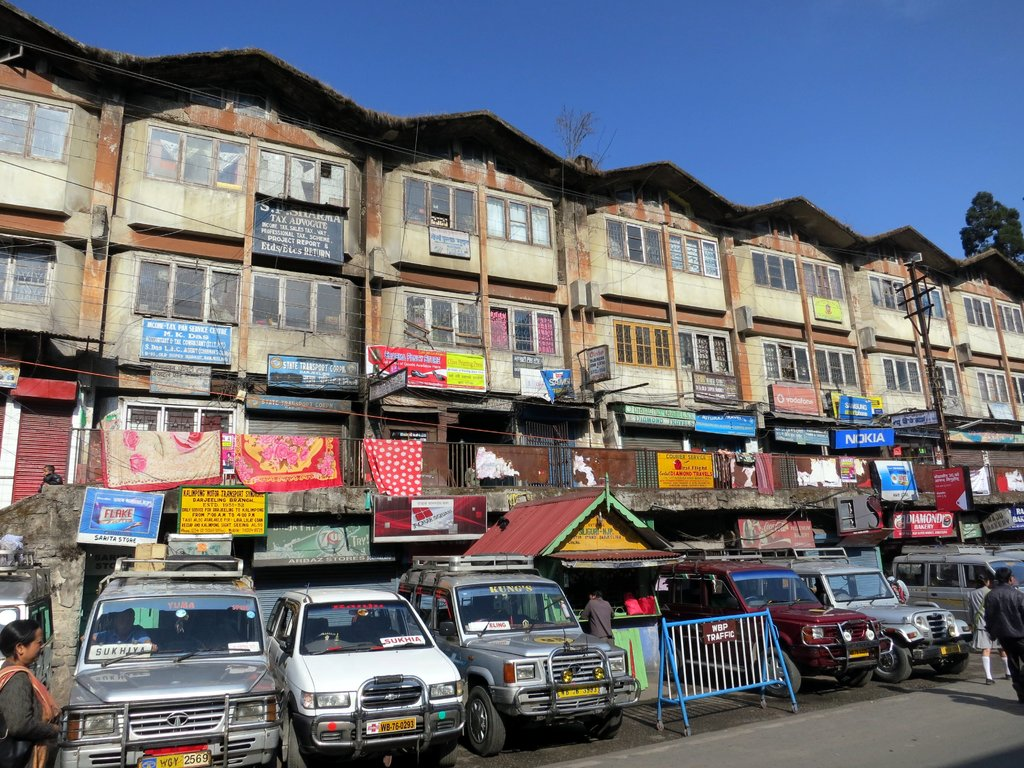Car: (0, 542, 1023, 767)
